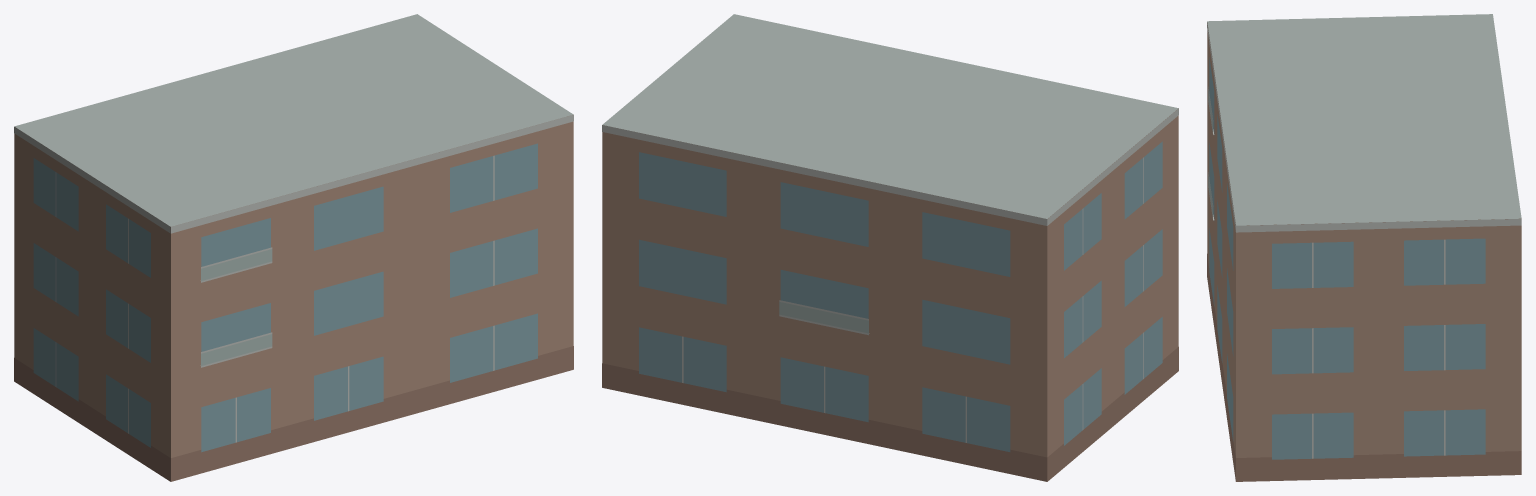
Rendered from survey-upis-32698010.glb.
The picture shows the model from 3 angles, left to right: view 1: azimuth 30°, elevation 25°; view 2: azimuth 150°, elevation 25°; view 3: azimuth 270°, elevation 25°; orthographic projection. The views are drawn at different scales.
Parts seen in each view (by area): view 1: survey-upis-32698010.tmp; view 2: survey-upis-32698010.tmp; view 3: survey-upis-32698010.tmp.
Boxes of the visible parts, <box> form: survey-upis-32698010.tmp: <box>14,14,573,481</box>; survey-upis-32698010.tmp: <box>602,14,1178,481</box>; survey-upis-32698010.tmp: <box>1207,14,1521,481</box>.
Size of the model in its own units: 16.23 by 9.15 by 10.19.
